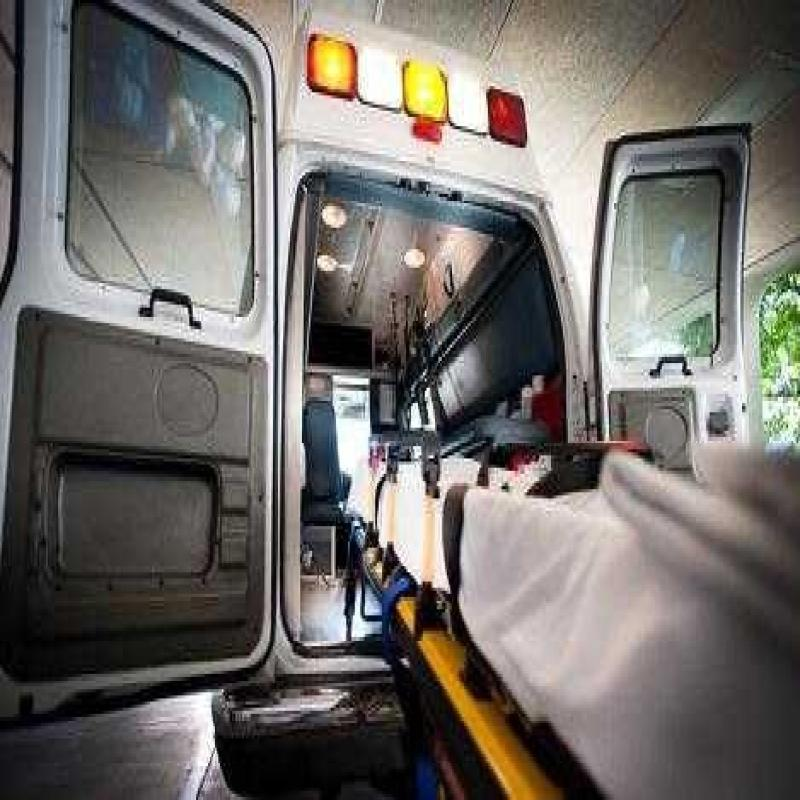AmbulanceSiren: (293, 19, 525, 153)
